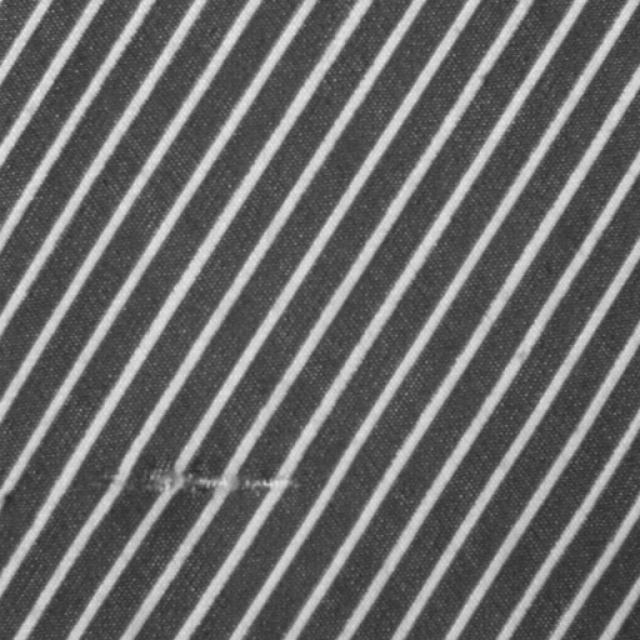Thread-Defect: (132, 461, 295, 496), (100, 470, 129, 488)
